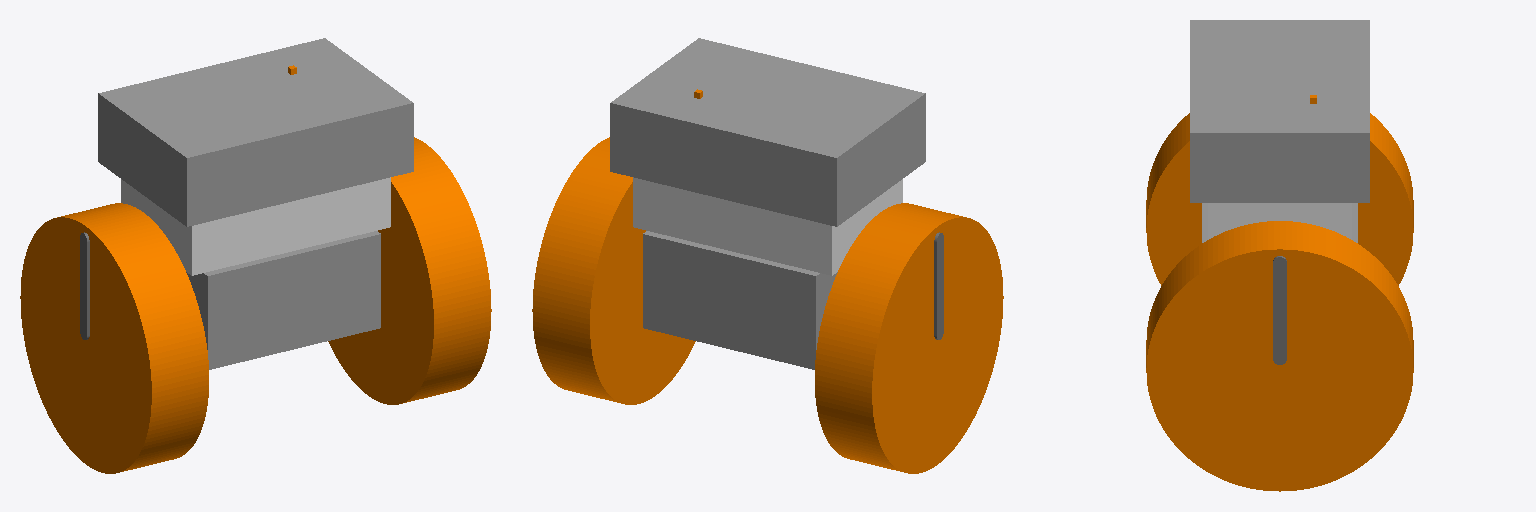
The robot description file, URDF, robot "assembly_simplified":
<!--URDF generated by ONSHAPE BY PTC INC, 1.221-->
<robot name="assembly_simplified">
    <link name="electronics">
        <inertial>
            <mass value="0.0319999" />
            <origin xyz="4.00157e-18 3.87328e-19 0.0081" rpy="0 -0 0" />
            <inertia ixx="4.51007e-06" ixy="0" ixz="0" iyy="9.00286e-06" iyz="0" izz="1.21132e-05" />
        </inertial>
        <visual>
            <origin xyz="3.21266e-18 1.34461e-34 -0.0254042" rpy="0 -0 0" />
            <geometry>
                <mesh filename="package://assembly_simplified/meshes/Electronics.stl" scale="1 1 1" />
            </geometry>
            <material name="0.647059_0.647059_0.647059_0.000000_0.000000">
                <color rgba="0.647059 0.647059 0.647059 1" />
            </material>
        </visual>
    </link>
    <link name="lipos">
        <inertial>
            <mass value="0.040025" />
            <origin xyz="2.36507e-18 1.57209e-18 0.007625" rpy="0 -0 0" />
            <inertia ixx="3.81773e-06" ixy="0" ixz="0" iyy="8.81675e-06" iyz="0" izz="1.10831e-05" />
        </inertial>
        <visual>
            <origin xyz="2.36507e-18 0.00015 -0.0101542" rpy="0 -0 0" />
            <geometry>
                <mesh filename="package://assembly_simplified/meshes/Lipos.stl" scale="1 1 1" />
            </geometry>
            <material name="0.901961_0.901961_0.901961_0.000000_0.000000">
                <color rgba="0.901961 0.901961 0.901961 1" />
            </material>
        </visual>
    </link>
    <link name="mark_wheel">
        <inertial>
            <mass value="4.38412e-08" />
            <origin xyz="-0.0003 5.93438e-20 0.014" rpy="0 -0 0" />
            <inertia ixx="2.20425e-12" ixy="0" ixz="0" iyy="2.17348e-12" iyz="0" izz="3.34009e-14" />
        </inertial>
        <visual>
            <origin xyz="0.0418 -2.70546e-34 0.00685857" rpy="0 -0 0" />
            <geometry>
                <mesh filename="package://assembly_simplified/meshes/mark_wheel.stl" scale="1 1 1" />
            </geometry>
            <material name="0.498039_0.498039_0.498039_0.000000_0.000000">
                <color rgba="0.498039 0.498039 0.498039 1" />
            </material>
        </visual>
    </link>
    <link name="mark_wheel_1">
        <inertial>
            <mass value="4.38412e-08" />
            <origin xyz="-0.0003 5.93438e-20 0.014" rpy="0 -0 0" />
            <inertia ixx="2.20425e-12" ixy="0" ixz="0" iyy="2.17348e-12" iyz="0" izz="3.34009e-14" />
        </inertial>
        <visual>
            <origin xyz="0.0418 -2.70546e-34 0.00685857" rpy="0 -0 0" />
            <geometry>
                <mesh filename="package://assembly_simplified/meshes/mark_wheel.stl" scale="1 1 1" />
            </geometry>
            <material name="0.498039_0.498039_0.498039_0.000000_0.000000">
                <color rgba="0.498039 0.498039 0.498039 1" />
            </material>
        </visual>
    </link>
    <link name="motor_base">
        <inertial>
            <mass value="0.0422448" />
            <origin xyz="0 -1.46515e-18 0.0345064" rpy="0 -0 0" />
            <inertia ixx="5.81773e-06" ixy="0" ixz="0" iyy="6.9916e-06" iyz="0" izz="9.70056e-06" />
        </inertial>
        <visual>
            <origin xyz="0 0 0.0348586" rpy="0 -0 0" />
            <geometry>
                <mesh filename="package://assembly_simplified/meshes/Motor_base.stl" scale="1 1 1" />
            </geometry>
            <material name="0.647059_0.647059_0.647059_0.000000_0.000000">
                <color rgba="0.647059 0.647059 0.647059 1" />
            </material>
        </visual>
    </link>
    <link name="root" />
    <link name="sensor_imu">
        <inertial>
            <mass value="2.744e-09" />
            <origin xyz="-3.46945e-18 -1.73472e-18 0.0007" rpy="0 -0 0" />
            <inertia ixx="0" ixy="0" ixz="0" iyy="0" iyz="0" izz="0" />
        </inertial>
        <visual>
            <origin xyz="-0.013 -0.007 -0.0416042" rpy="0 -0 0" />
            <geometry>
                <mesh filename="package://assembly_simplified/meshes/sensor_imu.stl" scale="1 1 1" />
            </geometry>
            <material name="0.972549_0.529412_0.003922_0.000000_0.000000">
                <color rgba="0.972549 0.529412 0.00392157 1" />
            </material>
        </visual>
    </link>
    <link name="sketch_wheelbase__1_">
        <inertial>
            <mass value="1e-09" />
            <origin xyz="0 0 0" rpy="0 -0 0" />
            <inertia ixx="4e-14" ixy="0" ixz="0" iyy="4e-14" iyz="0" izz="4e-14" />
        </inertial>
    </link>
    <link name="wheel">
        <inertial>
            <mass value="0.0435645" />
            <origin xyz="0.007075 -5.45744e-19 3.46945e-18" rpy="0 -0 0" />
            <inertia ixx="1.70773e-05" ixy="0" ixz="0" iyy="9.26552e-06" iyz="0" izz="9.26552e-06" />
        </inertial>
        <visual>
            <origin xyz="0.0418 -2.70546e-34 0.00685857" rpy="0 -0 0" />
            <geometry>
                <mesh filename="package://assembly_simplified/meshes/Wheel.stl" scale="1 1 1" />
            </geometry>
            <material name="0.972549_0.529412_0.003922_0.000000_0.000000">
                <color rgba="0.972549 0.529412 0.00392157 1" />
            </material>
        </visual>
    </link>
    <link name="wheel_1">
        <inertial>
            <mass value="0.0435645" />
            <origin xyz="-0.007075 -5.45744e-19 0" rpy="0 -0 0" />
            <inertia ixx="1.70773e-05" ixy="0" ixz="0" iyy="9.26552e-06" iyz="0" izz="9.26552e-06" />
        </inertial>
        <visual>
            <origin xyz="0.02765 -1.89911e-65 0.00685857" rpy="0 -0 0" />
            <geometry>
                <mesh filename="package://assembly_simplified/meshes/Wheel.stl" scale="1 1 1" />
            </geometry>
            <material name="0.972549_0.529412_0.003922_0.000000_0.000000">
                <color rgba="0.972549 0.529412 0.00392157 1" />
            </material>
        </visual>
    </link>
    <joint name="fastened_1" type="fixed">
        <origin xyz="0 0 0" rpy="0 -0 0" />
        <axis xyz="-0 -0 -1" />
        <parent link="root" />
        <child link="motor_base" />
    </joint>
    <joint name="fastened_2" type="fixed">
        <origin xyz="0 0 0" rpy="0 -0 0" />
        <axis xyz="0 0 1" />
        <parent link="root" />
        <child link="sketch_wheelbase__1_" />
    </joint>
    <joint name="fastened_2_1" type="fixed">
        <origin xyz="0 -3.87602e-18 0.0450128" rpy="1.35525e-16 6.93335e-33 0" />
        <axis xyz="-1.13185e-16 -2.46519e-32 -1" />
        <parent link="motor_base" />
        <child link="lipos" />
    </joint>
    <joint name="fastened_3" type="fixed">
        <origin xyz="-1.73472e-18 -8.98979e-19 0.01525" rpy="-2.46519e-32 -6.93335e-33 9.39644e-49" />
        <axis xyz="5.37867e-64 5.29287e-33 -1" />
        <parent link="lipos" />
        <child link="electronics" />
    </joint>
    <joint name="fastened_4" type="fixed">
        <origin xyz="0.013 0.007 0.0162" rpy="0 -0 0" />
        <axis xyz="0 0 -1" />
        <parent link="electronics" />
        <child link="sensor_imu" />
    </joint>
    <joint name="fastened_5" type="fixed">
        <origin xyz="-0.01415 2.70546e-34 0" rpy="-3.14159 -4.33681e-16 3.50325e-45" />
        <axis xyz="-1 -3.20732e-48 -2.1684e-16" />
        <parent link="wheel_1" />
        <child link="mark_wheel_1" />
    </joint>
    <joint name="fastened_6" type="fixed">
        <origin xyz="0.01415 -2.70546e-34 1.04083e-17" rpy="6.95476e-64 2.1684e-16 -3.14159" />
        <axis xyz="-1 -3.20732e-48 -2.1684e-16" />
        <parent link="wheel" />
        <child link="mark_wheel" />
    </joint>
    <joint name="wheel_left" type="continuous">
        <origin xyz="-0.02765 0 0.028" rpy="3.14159 4.2039e-44 -1.82169e-44" />
        <axis xyz="1 0 0" />
        <parent link="sketch_wheelbase__1_" />
        <child link="wheel_1" />
    </joint>
    <joint name="wheel_right" type="continuous">
        <origin xyz="0.02765 0 0.028" rpy="0 2.1684e-16 -3.20732e-48" />
        <axis xyz="-1 -3.20732e-48 -2.1684e-16" />
        <parent link="sketch_wheelbase__1_" />
        <child link="wheel" />
    </joint>
</robot>

--- Render facts (derived) ---
3 views of the same robot in one strip: view 1: azimuth 30°, elevation 25°; view 2: azimuth 150°, elevation 25°; view 3: azimuth 270°, elevation 25° (orthographic).
Robot: assembly_simplified — 10 links, 9 joints (2 continuous, 7 fixed); root link root; default pose: all joints at 0.
Visible links, largest first — view 1: electronics, wheel_1, wheel, motor_base, lipos, mark_wheel_1; view 2: electronics, wheel_1, wheel, motor_base, lipos, mark_wheel_1; view 3: wheel, electronics, wheel_1, lipos, mark_wheel.
Boxes of the visible links, x1,y1,x2,y2 form: electronics: [98, 38, 413, 226]; wheel_1: [20, 203, 208, 473]; wheel: [328, 137, 491, 404]; motor_base: [186, 231, 380, 369]; lipos: [121, 177, 390, 275]; mark_wheel_1: [80, 232, 89, 339]; electronics: [610, 38, 925, 226]; wheel_1: [815, 203, 1003, 473]; wheel: [532, 137, 695, 404]; motor_base: [643, 231, 837, 369]; lipos: [633, 177, 902, 275]; mark_wheel_1: [934, 232, 943, 339]; wheel: [1146, 221, 1413, 491]; electronics: [1190, 20, 1369, 202]; wheel_1: [1146, 113, 1413, 285]; lipos: [1208, 203, 1351, 239]; mark_wheel: [1273, 256, 1286, 364].
Size in the robot's own frame: 0.0848 by 0.056 by 0.0779 metres.
8 mesh visuals loaded from 6 distinct referenced files (6 binary STL).
